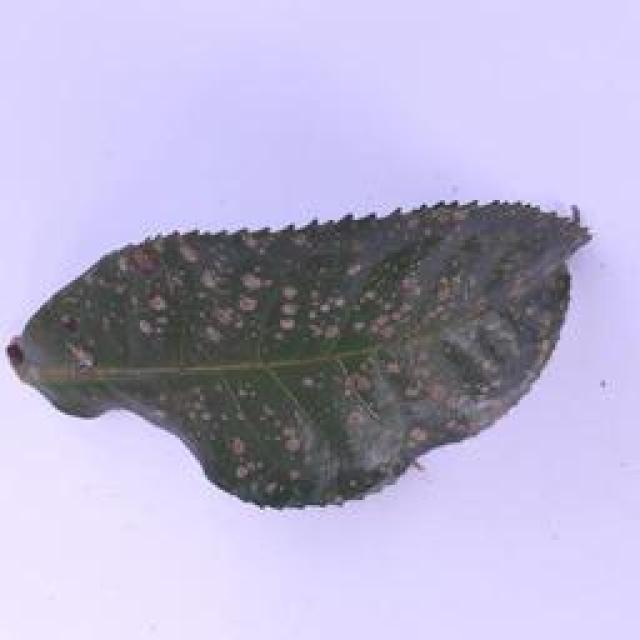Algal Leaf Spot: (6, 201, 592, 514)
